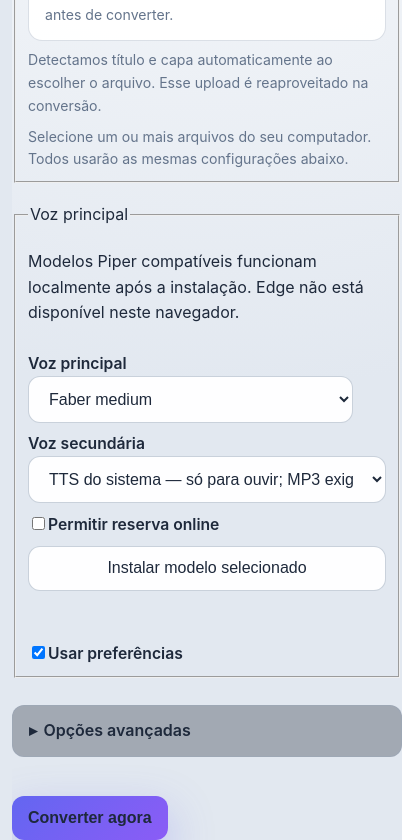
Scenario: ConversionForm › shows error message when no file is selected
(page scrolled)
Click the button "Converter agora" at (90, 818), box [12, 796, 168, 839]
(page scrolled)
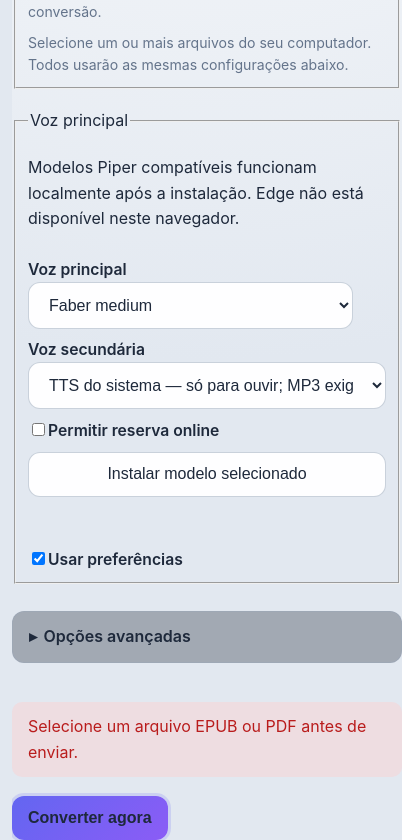
Now the message reads "Selecione um arquivo EPUB ou PDF antes de enviar.", box [28, 716, 366, 762]
